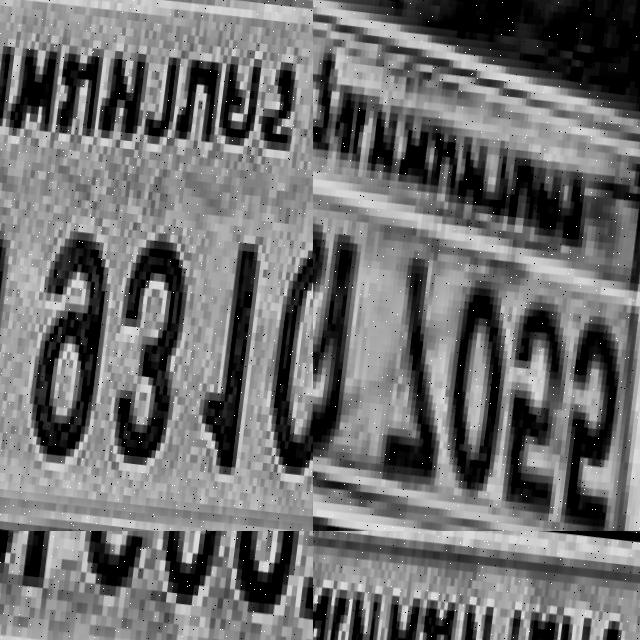license-plate: (313, 0, 640, 531), (0, 0, 313, 531), (313, 531, 640, 640), (0, 531, 313, 640)
